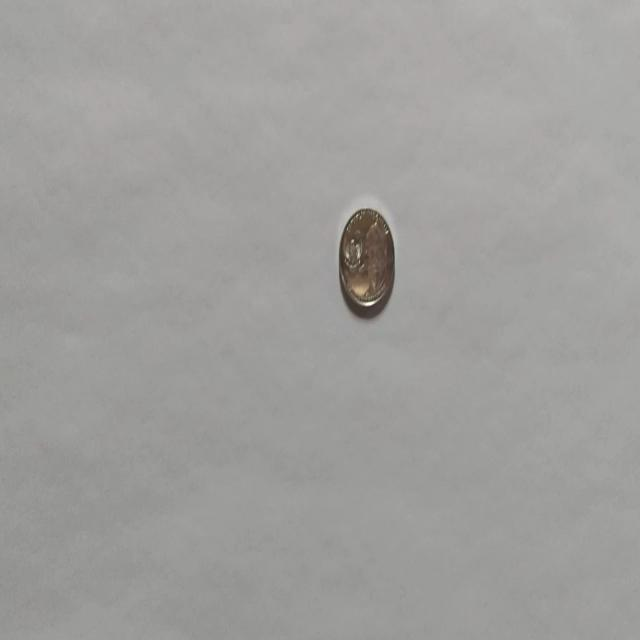dua ratus rupiah: (337, 204, 395, 314)
